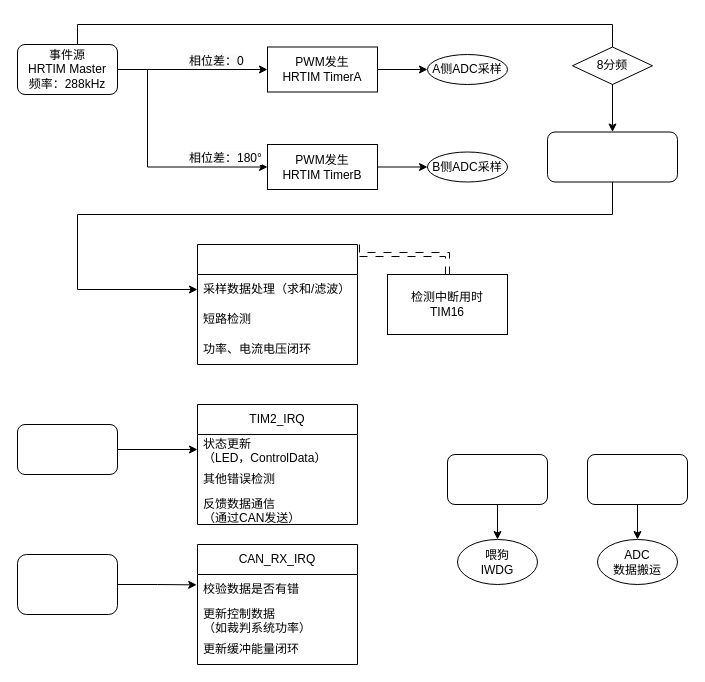
The diagram is 705 pixels wide and 682 high, and some of its shapes have lost their labels. The box of each missing label's shape, as (x1, y1, x2, y2) in pixels:
DMA控制器: (586, 454, 688, 504)
HRTIM1_Master_IRQ: (196, 244, 358, 364)
中断 HRTIM1_Master_IRQ: (546, 131, 678, 182)
主循环 main(): (446, 454, 548, 504)
事件源 CAN_RX 频率：外部，大约10~100Hz: (16, 554, 118, 614)
事件源 TIM2 频率：1kHz: (16, 424, 118, 474)
